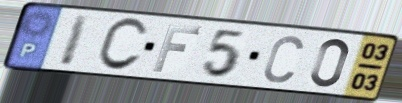0: (309, 37, 350, 89)
5: (199, 28, 250, 79)
C: (93, 17, 151, 74), (261, 33, 306, 85)
F: (150, 23, 204, 74)
I: (56, 12, 93, 68)
